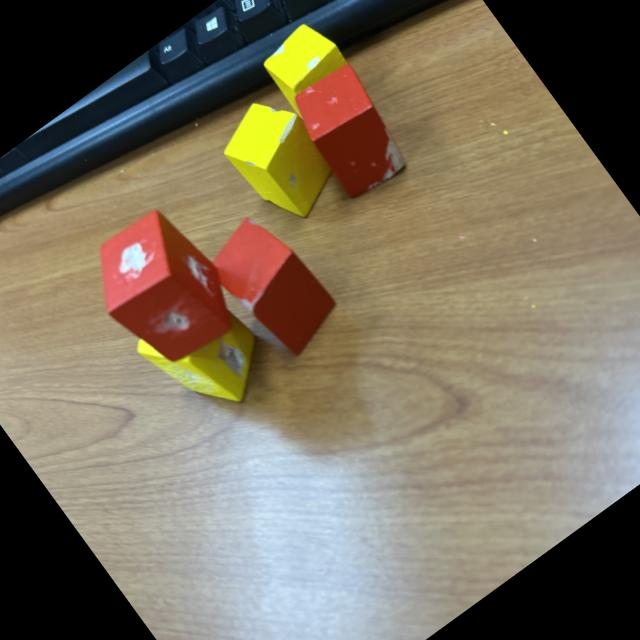broken: (71, 195, 252, 382), (196, 203, 348, 368), (128, 278, 283, 435), (209, 84, 351, 236), (282, 56, 421, 205), (253, 12, 358, 116)
